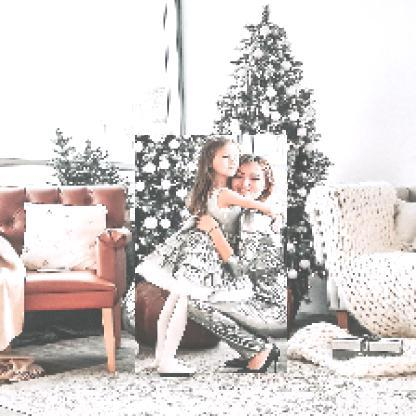child: (136, 136, 289, 375)
